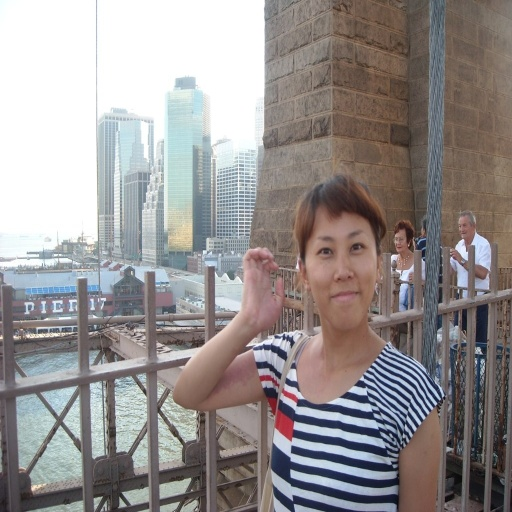hand: (243, 250, 287, 330), (449, 246, 462, 264), (411, 233, 417, 248), (374, 280, 379, 295), (406, 270, 412, 282), (419, 232, 424, 239)
